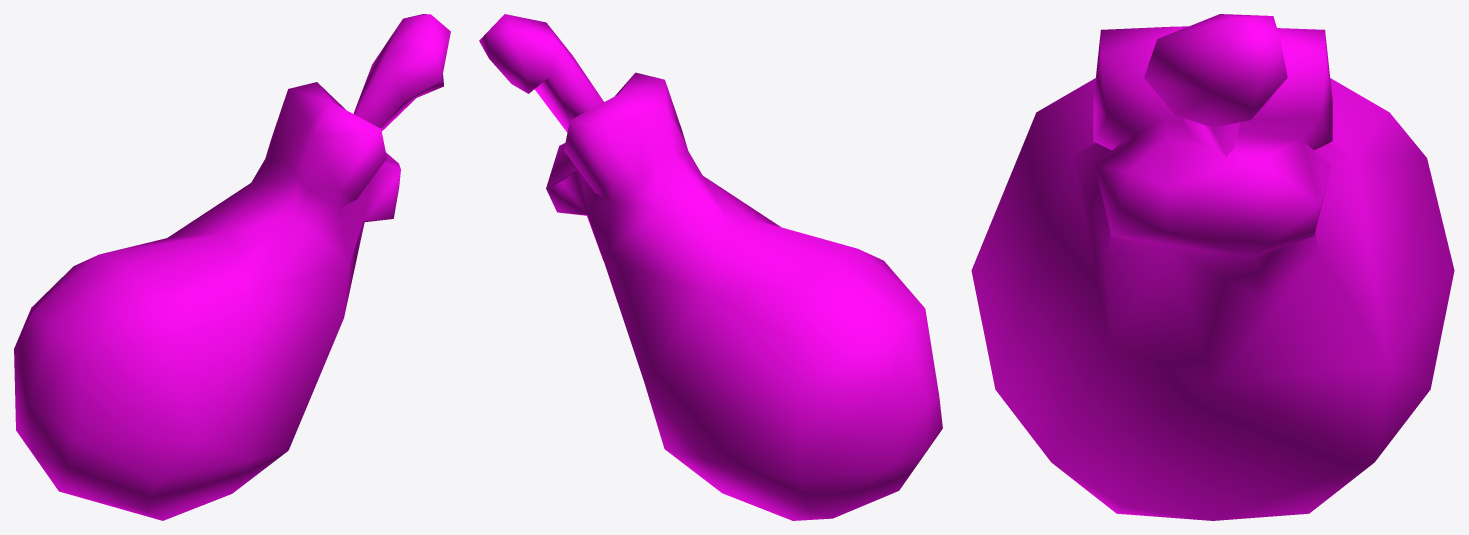
The model's file is ChickenLeg_meshCollider.fbx.
3 views of the same model, side by side, from view 1: azimuth 30°, elevation 25°; view 2: azimuth 150°, elevation 25°; view 3: azimuth 270°, elevation 25° (orthographic). The views are drawn at different scales.
Parts seen in each view (by area): view 1: foods_meat_chop_meshCollider; view 2: foods_meat_chop_meshCollider; view 3: foods_meat_chop_meshCollider.
Part boxes in pixels (x1,y1,x2,y2): foods_meat_chop_meshCollider: (14, 14, 450, 520); foods_meat_chop_meshCollider: (479, 14, 942, 520); foods_meat_chop_meshCollider: (971, 14, 1454, 520).
Size of the model in its own units: 14.83 by 13.79 by 8.3.
